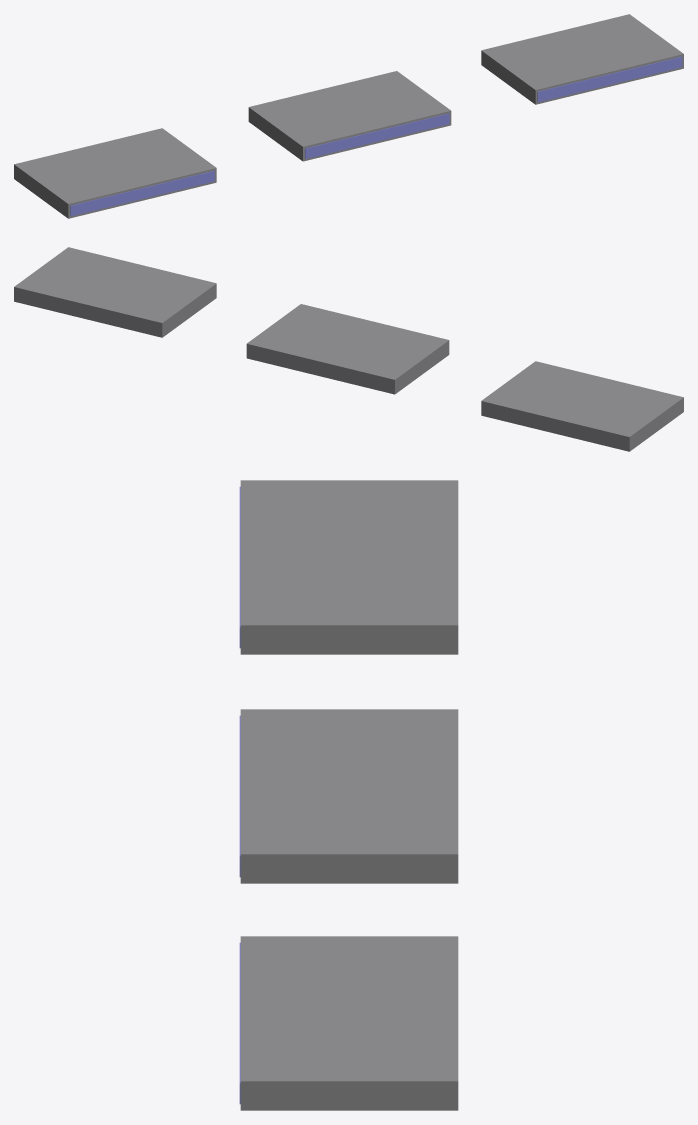
The model's file is Not Lylat Cruise Semisolids.fbx.
3 views of the same model, one above another, from view 1: azimuth 30°, elevation 25°; view 2: azimuth 150°, elevation 25°; view 3: azimuth 270°, elevation 25° (orthographic). The views are drawn at different scales.
Visible parts, largest first — view 1: Not Lylat Cruise Semisolid; view 2: Not Lylat Cruise Semisolid; view 3: Not Lylat Cruise Semisolid.
Boxes of the visible parts, box(x1,y1,x2,y2) form: Not Lylat Cruise Semisolid: box(14, 14, 683, 218); Not Lylat Cruise Semisolid: box(14, 247, 683, 451); Not Lylat Cruise Semisolid: box(239, 480, 458, 1110).
Bounding box in the file's own units: 3070 × 70 × 472.
